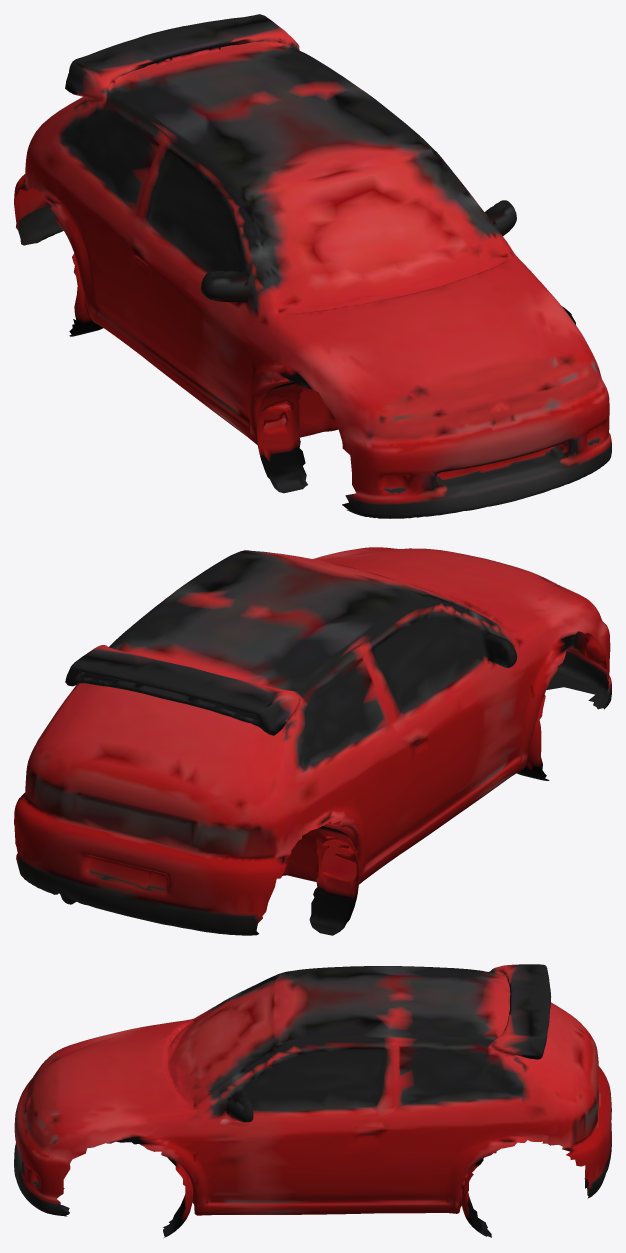
File: hatchback.glb
3 renders of one model, top to bottom at view 1: azimuth 30°, elevation 25°; view 2: azimuth 150°, elevation 25°; view 3: azimuth 270°, elevation 25°, orthographic. The views are drawn at different scales.
Parts seen in each view (by area): view 1: geometry_0; view 2: geometry_0; view 3: geometry_0.
Boxes of the visible parts, <box> form: geometry_0: <box>14,14,611,518</box>; geometry_0: <box>14,547,611,935</box>; geometry_0: <box>14,964,611,1237</box>.
Bounding box in the file's own units: 1.82 × 1.39 × 3.9.
